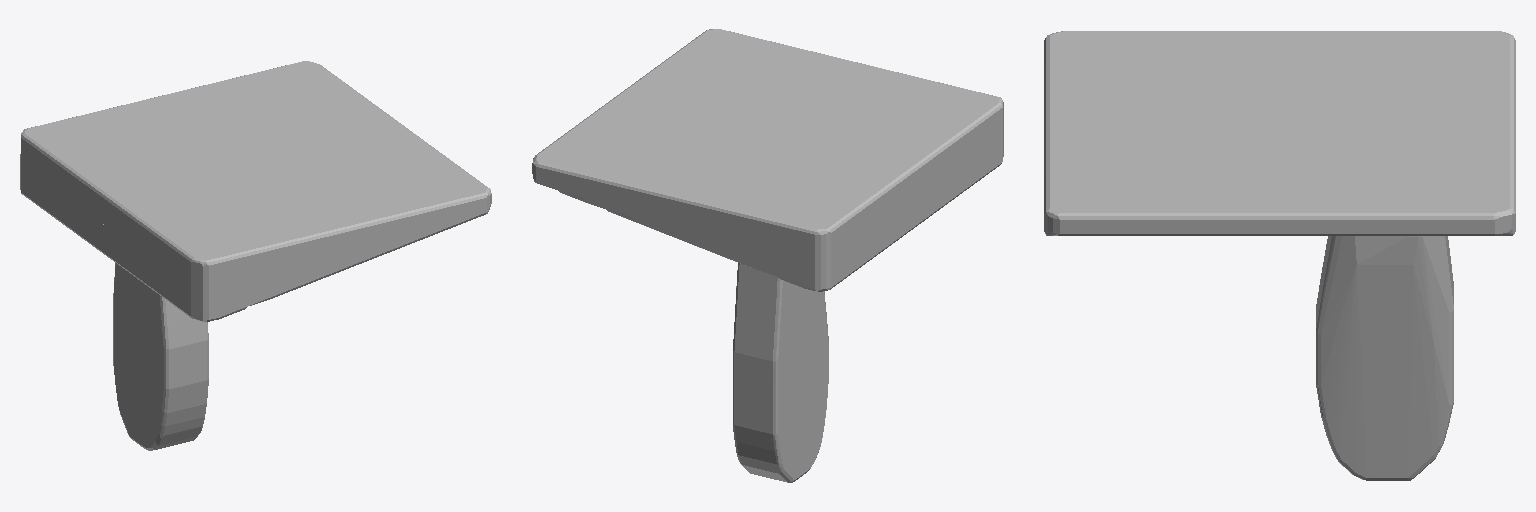
URDF robot description (root):
<robot name="root">
  <link name="body">
    <visual>
      <origin xyz="0 0 0" rpy="0 0 0"/>
      <geometry>
        <mesh filename="coacd_convex_piece_0.obj" scale="1.0000E+00 1.0000E+00 1.0000E+00"/>
      </geometry>
      <material name="">
        <color rgba="7.50E-01 7.50E-01 7.50E-01 1"/>
      </material>
    </visual>
    <collision>
      <origin xyz="0 0 0" rpy="0 0 0"/>
      <geometry>
        <mesh filename="coacd_convex_piece_0.obj" scale="1.0000E+00 1.0000E+00 1.0000E+00"/>
      </geometry>
    </collision>
    <visual>
      <origin xyz="0 0 0" rpy="0 0 0"/>
      <geometry>
        <mesh filename="coacd_convex_piece_1.obj" scale="1.0000E+00 1.0000E+00 1.0000E+00"/>
      </geometry>
      <material name="">
        <color rgba="7.50E-01 7.50E-01 7.50E-01 1"/>
      </material>
    </visual>
    <collision>
      <origin xyz="0 0 0" rpy="0 0 0"/>
      <geometry>
        <mesh filename="coacd_convex_piece_1.obj" scale="1.0000E+00 1.0000E+00 1.0000E+00"/>
      </geometry>
    </collision>
    <visual>
      <origin xyz="0 0 0" rpy="0 0 0"/>
      <geometry>
        <mesh filename="coacd_convex_piece_2.obj" scale="1.0000E+00 1.0000E+00 1.0000E+00"/>
      </geometry>
      <material name="">
        <color rgba="7.50E-01 7.50E-01 7.50E-01 1"/>
      </material>
    </visual>
    <collision>
      <origin xyz="0 0 0" rpy="0 0 0"/>
      <geometry>
        <mesh filename="coacd_convex_piece_2.obj" scale="1.0000E+00 1.0000E+00 1.0000E+00"/>
      </geometry>
    </collision>
    <visual>
      <origin xyz="0 0 0" rpy="0 0 0"/>
      <geometry>
        <mesh filename="coacd_convex_piece_3.obj" scale="1.0000E+00 1.0000E+00 1.0000E+00"/>
      </geometry>
      <material name="">
        <color rgba="7.50E-01 7.50E-01 7.50E-01 1"/>
      </material>
    </visual>
    <collision>
      <origin xyz="0 0 0" rpy="0 0 0"/>
      <geometry>
        <mesh filename="coacd_convex_piece_3.obj" scale="1.0000E+00 1.0000E+00 1.0000E+00"/>
      </geometry>
    </collision>
    <visual>
      <origin xyz="0 0 0" rpy="0 0 0"/>
      <geometry>
        <mesh filename="coacd_convex_piece_4.obj" scale="1.0000E+00 1.0000E+00 1.0000E+00"/>
      </geometry>
      <material name="">
        <color rgba="7.50E-01 7.50E-01 7.50E-01 1"/>
      </material>
    </visual>
    <collision>
      <origin xyz="0 0 0" rpy="0 0 0"/>
      <geometry>
        <mesh filename="coacd_convex_piece_4.obj" scale="1.0000E+00 1.0000E+00 1.0000E+00"/>
      </geometry>
    </collision>
    <visual>
      <origin xyz="0 0 0" rpy="0 0 0"/>
      <geometry>
        <mesh filename="coacd_convex_piece_5.obj" scale="1.0000E+00 1.0000E+00 1.0000E+00"/>
      </geometry>
      <material name="">
        <color rgba="7.50E-01 7.50E-01 7.50E-01 1"/>
      </material>
    </visual>
    <collision>
      <origin xyz="0 0 0" rpy="0 0 0"/>
      <geometry>
        <mesh filename="coacd_convex_piece_5.obj" scale="1.0000E+00 1.0000E+00 1.0000E+00"/>
      </geometry>
    </collision>
    <visual>
      <origin xyz="0 0 0" rpy="0 0 0"/>
      <geometry>
        <mesh filename="coacd_convex_piece_6.obj" scale="1.0000E+00 1.0000E+00 1.0000E+00"/>
      </geometry>
      <material name="">
        <color rgba="7.50E-01 7.50E-01 7.50E-01 1"/>
      </material>
    </visual>
    <collision>
      <origin xyz="0 0 0" rpy="0 0 0"/>
      <geometry>
        <mesh filename="coacd_convex_piece_6.obj" scale="1.0000E+00 1.0000E+00 1.0000E+00"/>
      </geometry>
    </collision>
    <visual>
      <origin xyz="0 0 0" rpy="0 0 0"/>
      <geometry>
        <mesh filename="coacd_convex_piece_7.obj" scale="1.0000E+00 1.0000E+00 1.0000E+00"/>
      </geometry>
      <material name="">
        <color rgba="7.50E-01 7.50E-01 7.50E-01 1"/>
      </material>
    </visual>
    <collision>
      <origin xyz="0 0 0" rpy="0 0 0"/>
      <geometry>
        <mesh filename="coacd_convex_piece_7.obj" scale="1.0000E+00 1.0000E+00 1.0000E+00"/>
      </geometry>
    </collision>
    <visual>
      <origin xyz="0 0 0" rpy="0 0 0"/>
      <geometry>
        <mesh filename="coacd_convex_piece_8.obj" scale="1.0000E+00 1.0000E+00 1.0000E+00"/>
      </geometry>
      <material name="">
        <color rgba="7.50E-01 7.50E-01 7.50E-01 1"/>
      </material>
    </visual>
    <collision>
      <origin xyz="0 0 0" rpy="0 0 0"/>
      <geometry>
        <mesh filename="coacd_convex_piece_8.obj" scale="1.0000E+00 1.0000E+00 1.0000E+00"/>
      </geometry>
    </collision>
    <visual>
      <origin xyz="0 0 0" rpy="0 0 0"/>
      <geometry>
        <mesh filename="coacd_convex_piece_9.obj" scale="1.0000E+00 1.0000E+00 1.0000E+00"/>
      </geometry>
      <material name="">
        <color rgba="7.50E-01 7.50E-01 7.50E-01 1"/>
      </material>
    </visual>
    <collision>
      <origin xyz="0 0 0" rpy="0 0 0"/>
      <geometry>
        <mesh filename="coacd_convex_piece_9.obj" scale="1.0000E+00 1.0000E+00 1.0000E+00"/>
      </geometry>
    </collision>
    <visual>
      <origin xyz="0 0 0" rpy="0 0 0"/>
      <geometry>
        <mesh filename="coacd_convex_piece_10.obj" scale="1.0000E+00 1.0000E+00 1.0000E+00"/>
      </geometry>
      <material name="">
        <color rgba="7.50E-01 7.50E-01 7.50E-01 1"/>
      </material>
    </visual>
    <collision>
      <origin xyz="0 0 0" rpy="0 0 0"/>
      <geometry>
        <mesh filename="coacd_convex_piece_10.obj" scale="1.0000E+00 1.0000E+00 1.0000E+00"/>
      </geometry>
    </collision>
  </link>
</robot>

--- Render facts (derived) ---
The picture shows the robot from 3 angles, left to right: view 1: azimuth 30°, elevation 25°; view 2: azimuth 150°, elevation 25°; view 3: azimuth 270°, elevation 25°; orthographic projection.
Robot: root — 1 links, 0 joints (none); root link body; default pose: every joint at zero.
Links seen in each view (by area): view 1: body; view 2: body; view 3: body.
Boxes of the visible links, x1=… form: body: x1=20, y1=61, x2=491, y2=450; body: x1=532, y1=29, x2=1003, y2=482; body: x1=1044, y1=31, x2=1515, y2=480.
Size in the robot's own frame: 1.14 by 1.22 by 1.09 metres.
11 mesh visuals loaded from 11 distinct referenced files (11 OBJ).
